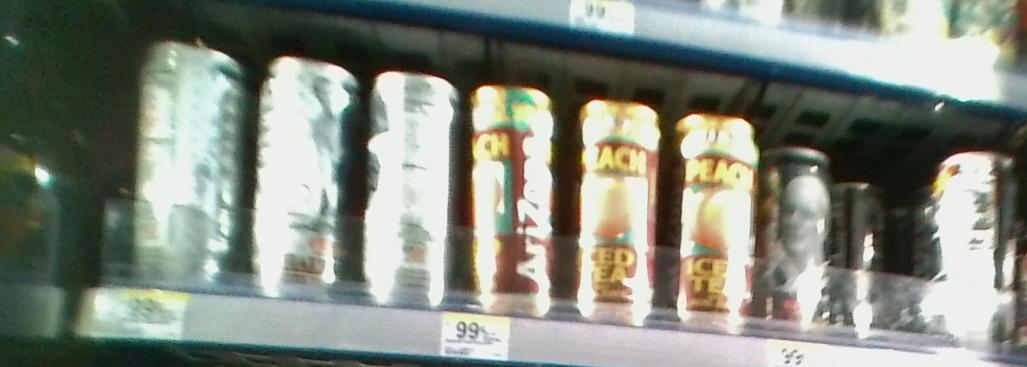bottle: (126, 27, 243, 280), (241, 48, 359, 289), (561, 90, 670, 322), (359, 64, 461, 308), (461, 72, 559, 312), (920, 147, 1027, 342), (669, 106, 761, 331), (763, 137, 836, 329), (836, 173, 895, 324)
